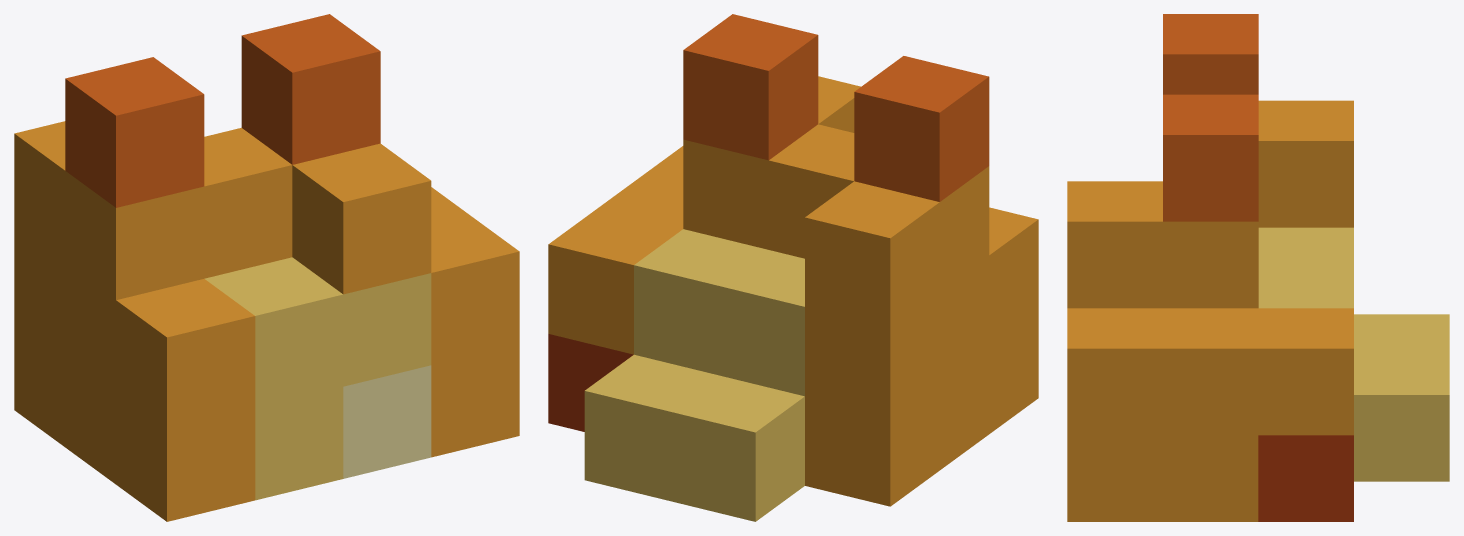
The model's file is flame_03.glb.
3 renders of one model, left to right at view 1: azimuth 30°, elevation 25°; view 2: azimuth 150°, elevation 25°; view 3: azimuth 270°, elevation 25°, orthographic. The views are drawn at different scales.
Visible parts, largest first — view 1: flame_03; view 2: flame_03; view 3: flame_03.
Part boxes in pixels (x1=…): flame_03: x1=14, y1=14, x2=519, y2=521; flame_03: x1=548, y1=14, x2=1038, y2=521; flame_03: x1=1067, y1=14, x2=1449, y2=521.
Bounding box in the file's own units: 0.5 × 0.5 × 0.5.
